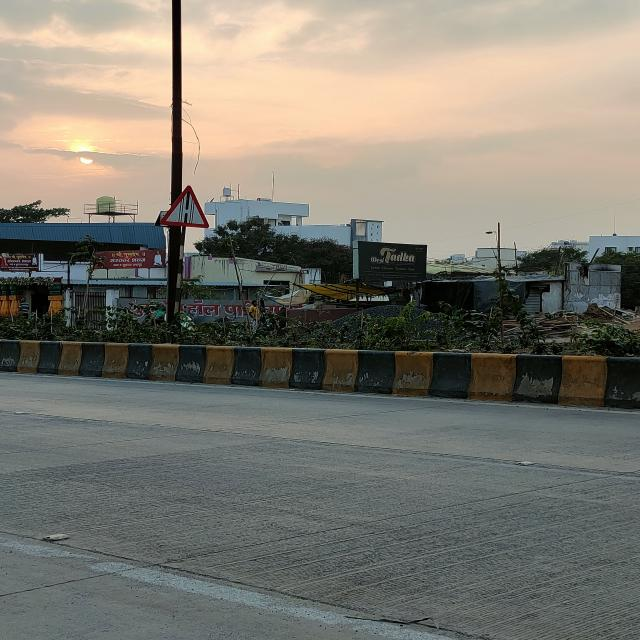GAP_IN_MEDIAN: (158, 186, 210, 228)
